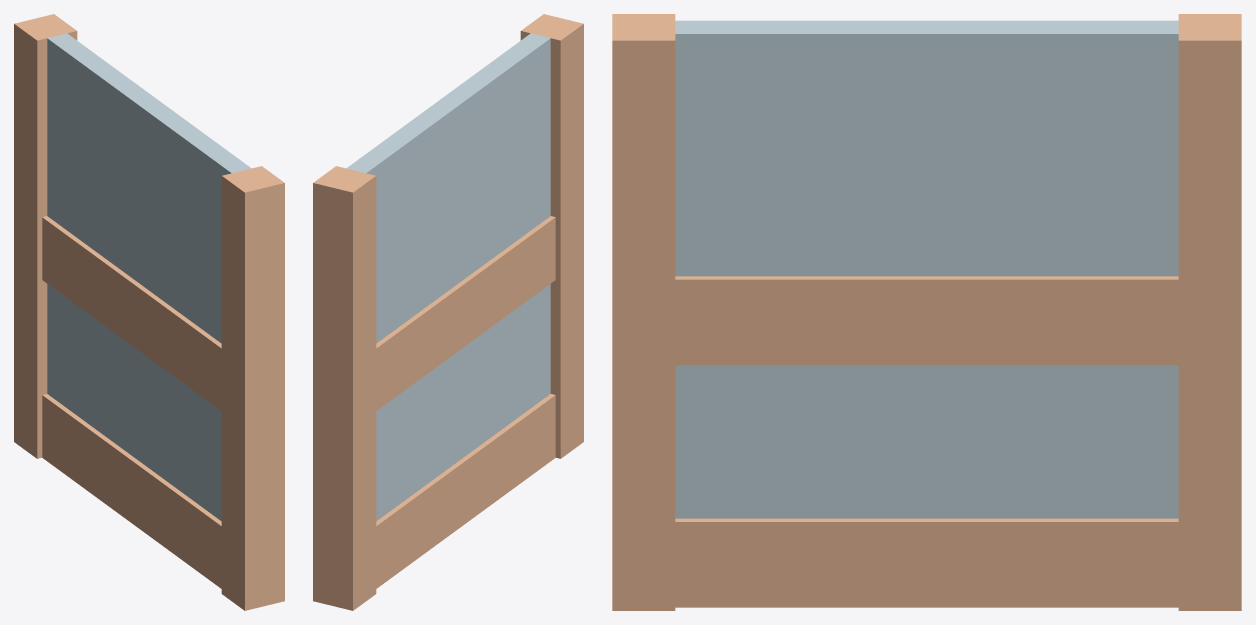
File: wallDetailHorizontal.glb
The picture shows the model from 3 angles, left to right: view 1: azimuth 30°, elevation 25°; view 2: azimuth 150°, elevation 25°; view 3: azimuth 270°, elevation 25°; orthographic projection. The views are drawn at different scales.
Parts seen in each view (by area): view 1: wallDetailHorizontal; view 2: wallDetailHorizontal; view 3: wallDetailHorizontal.
Boxes of the visible parts, box(x1,y1,x2,y2) form: wallDetailHorizontal: box(14, 14, 284, 610); wallDetailHorizontal: box(313, 14, 583, 610); wallDetailHorizontal: box(612, 14, 1241, 610).
Size of the model in its own units: 0.1 by 1 by 1.
